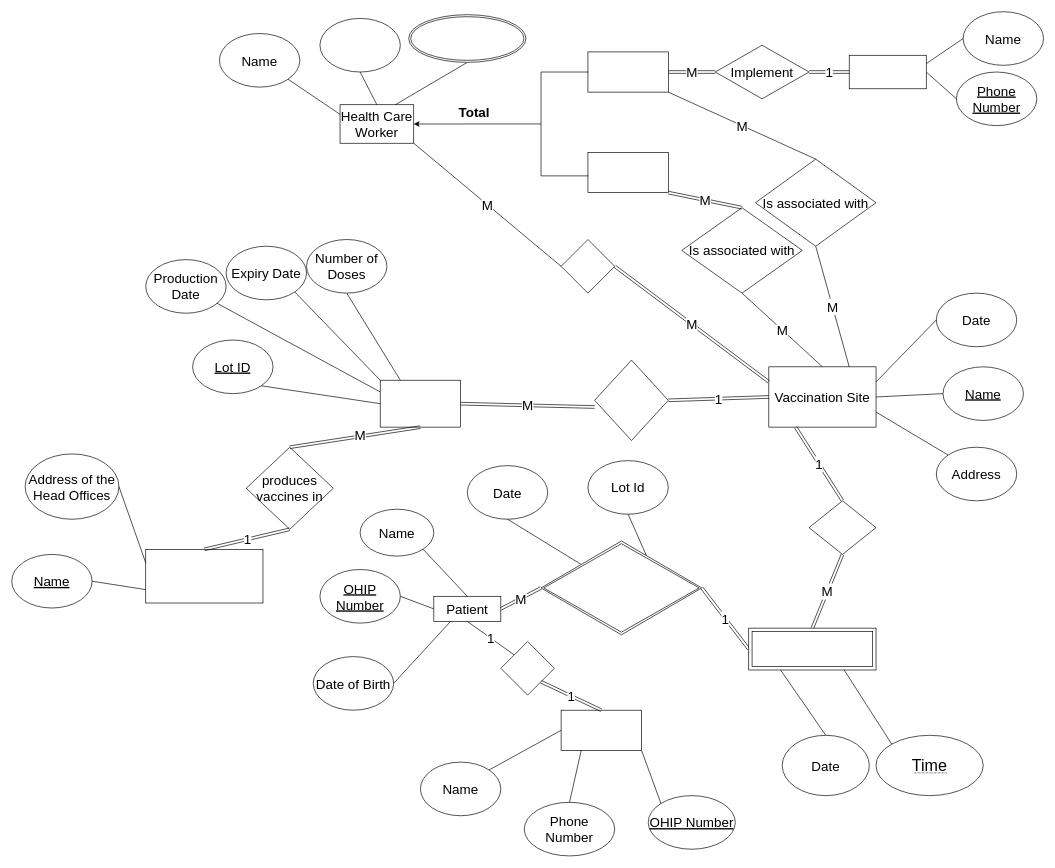
Image size: 1055x868. Some labels were removed from this diagram. The shapes that lost their labels are listed below. From the top down, each one's centre as x and y in pixels, then its label:
(359,45): ID
(467,38): Credentials
(627,71): Doctor
(887,72): Medical Practice
(627,172): Nurse
(587,266): Works at
(420,403): Vaccine lot
(631,400): Ships to
(842,527): Made
(204,576): Company
(621,587): receives vaccination through
(527,668): has
(812,648): Appointment
(601,730): Spouse
